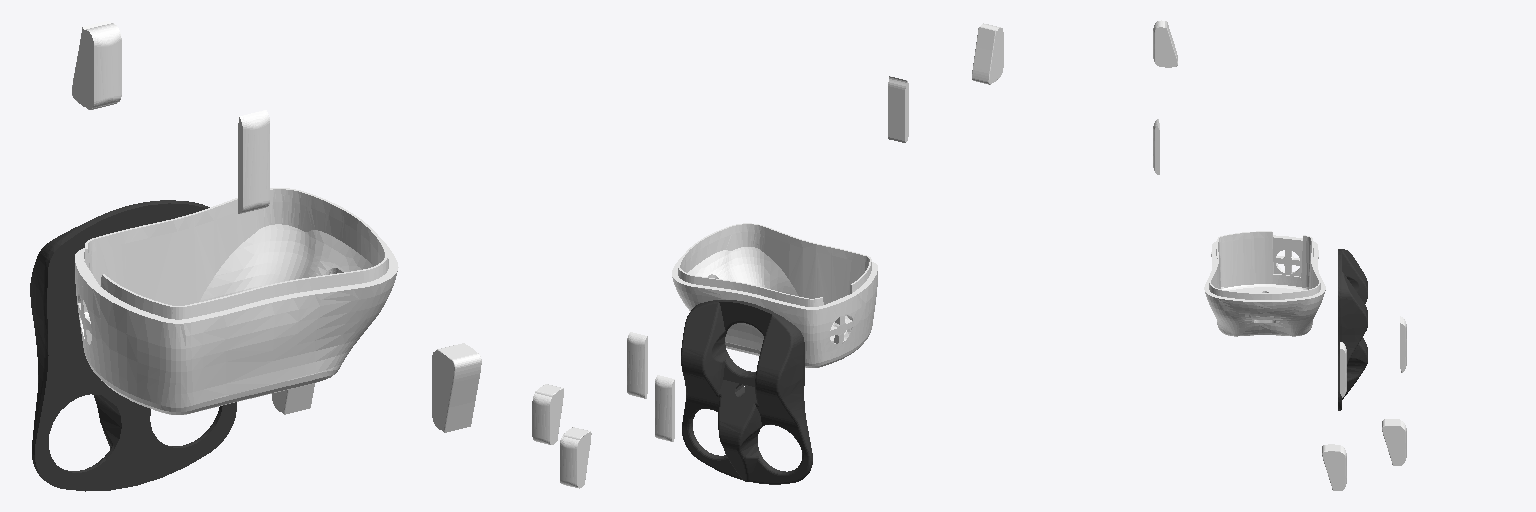
robot.urdf — Visualization_Exports:
<robot
  name="Visualization_Exports">
  <link
    name="base_link">
    <visual>
      <origin
        xyz="0 0 0"
        rpy="0 0 0" />
      <geometry>
        <mesh
          filename="package://Visualization_Exports/meshes/base_link.STL" />
      </geometry>
      <material
        name="">
        <color
          rgba="1 1 1 1" />
      </material>
    </visual>
  </link>
  <link
    name="pad">
    <visual>
      <origin
        xyz="0 0 0"
        rpy="0 0 0" />
      <geometry>
        <mesh
          filename="package://Visualization_Exports/meshes/pad.STL" />
      </geometry>
      <material
        name="">
        <color
          rgba="0.298039215686275 0.298039215686275 0.298039215686275 1" />
      </material>
    </visual>
  </link>
  <joint
    name="pad_joint"
    type="fixed">
    <origin
      xyz="0 0 0"
      rpy="0 0 0" />
    <parent
      link="base_link" />
    <child
      link="pad" />
    <axis
      xyz="0 0 0" />
  </joint>
  <link
    name="swivel_1">
    <visual>
      <origin
        xyz="0 0 0"
        rpy="0 0 0" />
      <geometry>
        <mesh
          filename="package://Visualization_Exports/meshes/swivel_1.STL" />
      </geometry>
      <material
        name="">
        <color
          rgba="1 1 1 1" />
      </material>
    </visual>
  </link>
  <joint
    name="preshape_1"
    type="continuous">
    <origin
      xyz="0.0503973683071414 -0.026 0.063"
      rpy="6.75550818663469E-16 1.97993848419069E-16 -2.77555756156289E-16" />
    <parent
      link="base_link" />
    <child
      link="swivel_1" />
    <axis
      xyz="0 0 -1" />
  </joint>
  <link
    name="proximal_1">
    <visual>
      <origin
        xyz="0 0 0"
        rpy="0 0 0" />
      <geometry>
        <mesh
          filename="package://Visualization_Exports/meshes/proximal_1.STL" />
      </geometry>
      <material
        name="">
        <color
          rgba="1 1 1 1" />
      </material>
    </visual>
  </link>
  <joint
    name="proximal_joint_1"
    type="continuous">
    <origin
      xyz="0.01 0 0.0186"
      rpy="-6.20039667432211E-16 2.40507565059625E-17 2.22044604925031E-16" />
    <parent
      link="swivel_1" />
    <child
      link="proximal_1" />
    <axis
      xyz="0 -1 0" />
  </joint>
  <link
    name="proximal_pad_1">
    <visual>
      <origin
        xyz="0 0 0"
        rpy="0 0 0" />
      <geometry>
        <mesh
          filename="package://Visualization_Exports/meshes/proximal_pad_1.STL" />
      </geometry>
      <material
        name="">
        <color
          rgba="1 1 1 1" />
      </material>
    </visual>
  </link>
  <joint
    name="prox1_pad_joint"
    type="fixed">
    <origin
      xyz="0 0 0"
      rpy="0 0 0" />
    <parent
      link="proximal_1" />
    <child
      link="proximal_pad_1" />
    <axis
      xyz="0 0 0" />
  </joint>
  <link
    name="distal_1">
    <visual>
      <origin
        xyz="0 0 0"
        rpy="0 0 0" />
      <geometry>
        <mesh
          filename="package://Visualization_Exports/meshes/distal_1.STL" />
      </geometry>
      <material
        name="">
        <color
          rgba="1 1 1 1" />
      </material>
    </visual>
  </link>
  <joint
    name="distal_joint_1"
    type="continuous">
    <origin
      xyz="0.0760000000000001 0 0.0025"
      rpy="0 0 0" />
    <parent
      link="proximal_1" />
    <child
      link="distal_1" />
    <axis
      xyz="0 -1 0" />
  </joint>
  <link
    name="distal_pad_1">
    <visual>
      <origin
        xyz="0 0 0"
        rpy="0 0 0" />
      <geometry>
        <mesh
          filename="package://Visualization_Exports/meshes/distal_pad_1.STL" />
      </geometry>
      <material
        name="">
        <color
          rgba="1 1 1 1" />
      </material>
    </visual>
  </link>
  <joint
    name="dist1_pad_joint"
    type="fixed">
    <origin
      xyz="0 0 0"
      rpy="0 0 0" />
    <parent
      link="distal_1" />
    <child
      link="distal_pad_1" />
    <axis
      xyz="0 0 0" />
  </joint>
  <link
    name="swivel_2">
    <visual>
      <origin
        xyz="0 0 0"
        rpy="0 0 0" />
      <geometry>
        <mesh
          filename="package://Visualization_Exports/meshes/swivel_2.STL" />
      </geometry>
      <material
        name="">
        <color
          rgba="1 1 1 1" />
      </material>
    </visual>
  </link>
  <joint
    name="preshape_2"
    type="continuous">
    <origin
      xyz="0.0503973683071413 0.0259999999999999 0.063"
      rpy="1.22459340959228E-15 -7.33448407631817E-16 -1.66533453693773E-16" />
    <parent
      link="base_link" />
    <child
      link="swivel_2" />
    <axis
      xyz="0 0 -1" />
  </joint>
  <link
    name="proximal_2">
    <visual>
      <origin
        xyz="0 0 0"
        rpy="0 0 0" />
      <geometry>
        <mesh
          filename="package://Visualization_Exports/meshes/proximal_2.STL" />
      </geometry>
      <material
        name="">
        <color
          rgba="1 1 1 1" />
      </material>
    </visual>
  </link>
  <joint
    name="proximal_joint_2"
    type="continuous">
    <origin
      xyz="0.01 0 0.0186"
      rpy="-1.16908225836102E-15 9.55493012556849E-16 1.11022302462515E-16" />
    <parent
      link="swivel_2" />
    <child
      link="proximal_2" />
    <axis
      xyz="0 -1 0" />
  </joint>
  <link
    name="proximal_pad_2">
    <visual>
      <origin
        xyz="0 0 0"
        rpy="0 0 0" />
      <geometry>
        <mesh
          filename="package://Visualization_Exports/meshes/proximal_pad_2.STL" />
      </geometry>
      <material
        name="">
        <color
          rgba="1 1 1 1" />
      </material>
    </visual>
  </link>
  <joint
    name="prox2_pad_joint"
    type="fixed">
    <origin
      xyz="0 0 0"
      rpy="0 0 0" />
    <parent
      link="proximal_2" />
    <child
      link="proximal_pad_2" />
    <axis
      xyz="0 0 0" />
  </joint>
  <link
    name="distal_2">
    <visual>
      <origin
        xyz="0 0 0"
        rpy="0 0 0" />
      <geometry>
        <mesh
          filename="package://Visualization_Exports/meshes/distal_2.STL" />
      </geometry>
      <material
        name="">
        <color
          rgba="1 1 1 1" />
      </material>
    </visual>
  </link>
  <joint
    name="distal_joint_2"
    type="continuous">
    <origin
      xyz="0.076 0 0.0025"
      rpy="0 0 0" />
    <parent
      link="proximal_2" />
    <child
      link="distal_2" />
    <axis
      xyz="0 -1 0" />
  </joint>
  <link
    name="distal_pad_2">
    <visual>
      <origin
        xyz="0 0 0"
        rpy="0 0 0" />
      <geometry>
        <mesh
          filename="package://Visualization_Exports/meshes/distal_pad_2.STL" />
      </geometry>
      <material
        name="">
        <color
          rgba="1 1 1 1" />
      </material>
    </visual>
  </link>
  <joint
    name="dist2_pad_joint"
    type="fixed">
    <origin
      xyz="0 0 0"
      rpy="0 0 0" />
    <parent
      link="distal_2" />
    <child
      link="distal_pad_2" />
    <axis
      xyz="0 0 0" />
  </joint>
  <link
    name="proximal_3">
    <visual>
      <origin
        xyz="0 0 0"
        rpy="0 0 0" />
      <geometry>
        <mesh
          filename="package://Visualization_Exports/meshes/proximal_3.STL" />
      </geometry>
      <material
        name="">
        <color
          rgba="1 1 1 1" />
      </material>
    </visual>
  </link>
  <joint
    name="proximal_joint_3"
    type="continuous">
    <origin
      xyz="-0.03 0 0.0816000000000001"
      rpy="-5.55111512312578E-17 -2.22044604925031E-16 3.14159265358979" />
    <parent
      link="base_link" />
    <child
      link="proximal_3" />
    <axis
      xyz="0 -1 0" />
  </joint>
  <link
    name="proximal_pad_3">
    <visual>
      <origin
        xyz="0 0 0"
        rpy="0 0 0" />
      <geometry>
        <mesh
          filename="package://Visualization_Exports/meshes/proximal_pad_3.STL" />
      </geometry>
      <material
        name="">
        <color
          rgba="1 1 1 1" />
      </material>
    </visual>
  </link>
  <joint
    name="prox3_pad_joint"
    type="continuous">
    <origin
      xyz="0 0 0"
      rpy="-8.12078539014657E-108 0 0" />
    <parent
      link="proximal_3" />
    <child
      link="proximal_pad_3" />
    <axis
      xyz="0 -1 0" />
  </joint>
  <link
    name="distal_3">
    <visual>
      <origin
        xyz="0 0 0"
        rpy="0 0 0" />
      <geometry>
        <mesh
          filename="package://Visualization_Exports/meshes/distal_3.STL" />
      </geometry>
      <material
        name="">
        <color
          rgba="1 1 1 1" />
      </material>
    </visual>
  </link>
  <joint
    name="distal_joint_3"
    type="continuous">
    <origin
      xyz="0.0760000000000001 0 0.0025"
      rpy="-8.12078539014657E-108 0 0" />
    <parent
      link="proximal_3" />
    <child
      link="distal_3" />
    <axis
      xyz="0 -1 0" />
  </joint>
  <link
    name="distal_pad_3">
    <visual>
      <origin
        xyz="0 0 0"
        rpy="0 0 0" />
      <geometry>
        <mesh
          filename="package://Visualization_Exports/meshes/distal_pad_3.STL" />
      </geometry>
      <material
        name="">
        <color
          rgba="1 1 1 1" />
      </material>
    </visual>
  </link>
  <joint
    name="dist3_pad_joint"
    type="fixed">
    <origin
      xyz="0 0 0"
      rpy="-8.12078539014657E-108 0 0" />
    <parent
      link="distal_3" />
    <child
      link="distal_pad_3" />
    <axis
      xyz="0 0 0" />
  </joint>
</robot>

--- Render facts (derived) ---
3 views of the same robot in one strip: view 1: azimuth 30°, elevation 25°; view 2: azimuth 150°, elevation 25°; view 3: azimuth 270°, elevation 25° (orthographic).
Robot: Visualization_Exports — 16 links, 15 joints (9 continuous, 6 fixed); root link base_link; default pose: all joints at 0.
Links seen in each view (by area): view 1: base_link, pad, distal_1, proximal_pad_3, distal_pad_3, distal_3, distal_2; view 2: base_link, pad, distal_3, proximal_pad_1, proximal_pad_3, proximal_pad_2, distal_pad_2, distal_pad_1, distal_1, distal_2; view 3: base_link, pad, distal_2, distal_1, distal_3.
Link boxes in pixels (x1=…): base_link: x1=75, y1=188, x2=398, y2=414; pad: x1=30, y1=200, x2=236, y2=491; distal_1: x1=436, y1=343, x2=481, y2=432; proximal_pad_3: x1=238, y1=110, x2=269, y2=213; distal_pad_3: x1=85, y1=23, x2=121, y2=108; distal_3: x1=72, y1=21, x2=116, y2=109; distal_2: x1=277, y1=383, x2=314, y2=414; base_link: x1=672, y1=223, x2=877, y2=367; pad: x1=681, y1=300, x2=812, y2=484; distal_3: x1=972, y1=27, x2=1000, y2=84; proximal_pad_1: x1=627, y1=332, x2=647, y2=398; proximal_pad_3: x1=888, y1=76, x2=908, y2=142; proximal_pad_2: x1=655, y1=375, x2=674, y2=441; distal_pad_2: x1=560, y1=436, x2=583, y2=488; distal_pad_1: x1=532, y1=393, x2=555, y2=444; distal_1: x1=535, y1=384, x2=563, y2=441; distal_2: x1=563, y1=427, x2=591, y2=484; base_link: x1=1204, y1=231, x2=1325, y2=336; pad: x1=1338, y1=249, x2=1367, y2=410; distal_2: x1=1382, y1=419, x2=1401, y2=465; distal_1: x1=1322, y1=444, x2=1341, y2=490; distal_3: x1=1158, y1=21, x2=1177, y2=67.
Size in the robot's own frame: 0.2824 by 0.22 by 0.3195 metres.
Meshes: 16 distinct files referenced, 11 mesh visuals loaded (11 binary STL); not drawn: 5 (reference not matched to a file when rendering).